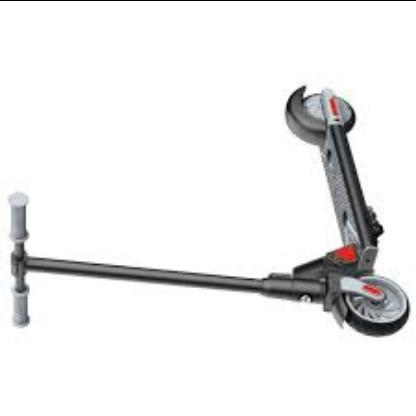bike: (2, 86, 412, 338), (268, 85, 410, 337)
